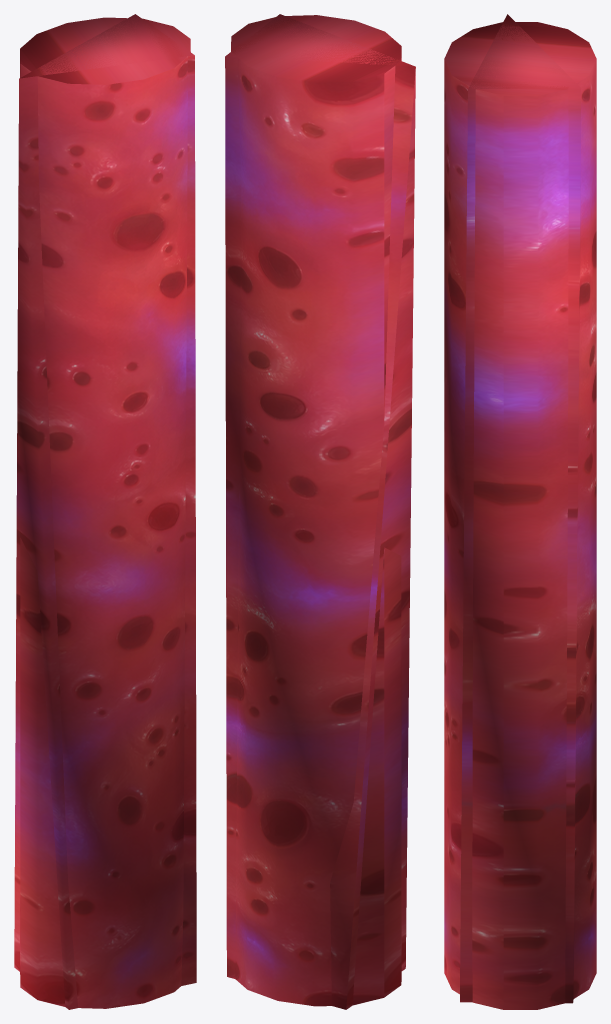
The model's file is leg_basic.fbx.
3 views of the same model, side by side, from view 1: azimuth 30°, elevation 25°; view 2: azimuth 150°, elevation 25°; view 3: azimuth 270°, elevation 25° (orthographic).
Visible parts, largest first — view 1: leg_basic_VIS, leg_basic_COL; view 2: leg_basic_VIS, leg_basic_COL; view 3: leg_basic_VIS, leg_basic_COL.
Part boxes in pixels (left/top/right/bottom): leg_basic_VIS: left=20, top=17, right=190, bottom=1008; leg_basic_COL: left=14, top=14, right=196, bottom=1009; leg_basic_VIS: left=231, top=15, right=401, bottom=1006; leg_basic_COL: left=225, top=14, right=415, bottom=1009; leg_basic_VIS: left=444, top=22, right=596, bottom=1009; leg_basic_COL: left=460, top=14, right=580, bottom=1003.
Bounding box in the file's own units: 17.28 × 90 × 13.6.
